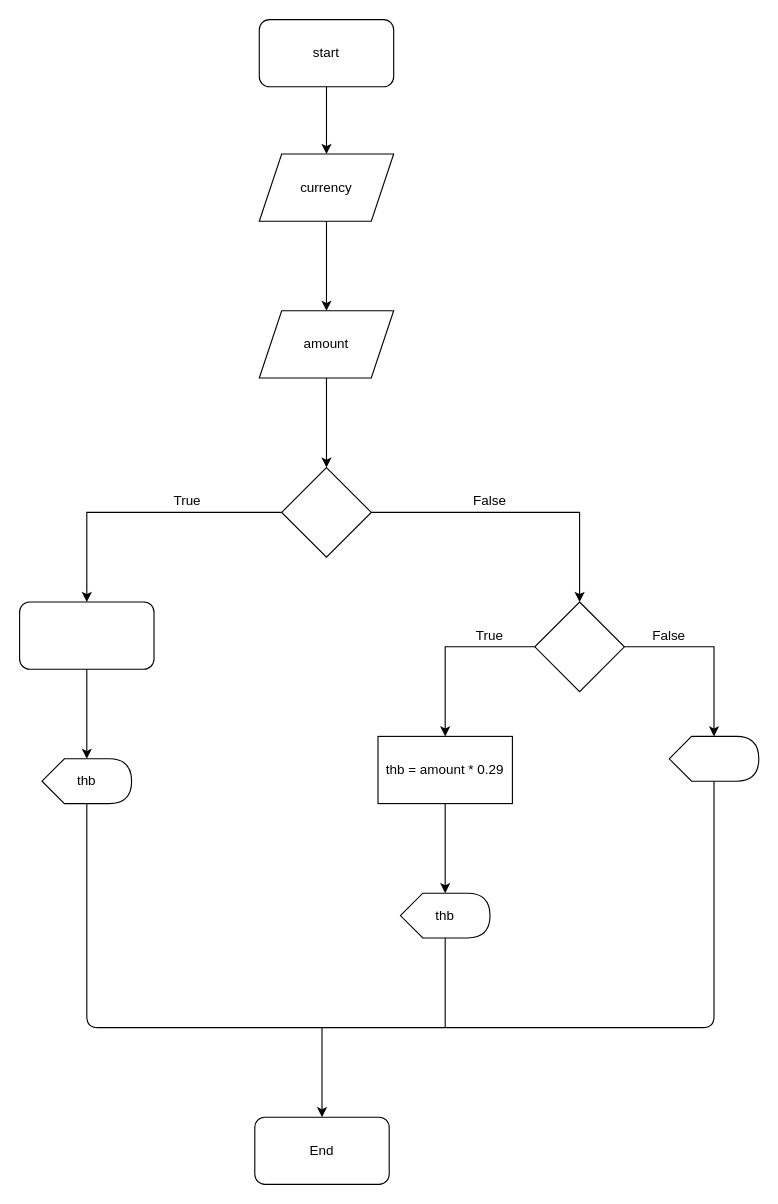
Image size: 778x1204. Some labels were removed from this diagram. Here are the shapes that lost their labels. From the top down, the box of each, then its label:
(281, 466, 371, 557): currency == "USD"
(18, 601, 154, 669): thb = amount * 32.5
(534, 601, 624, 692): currency == "JPY"
(668, 735, 759, 781): "กรุณากรอก..."
